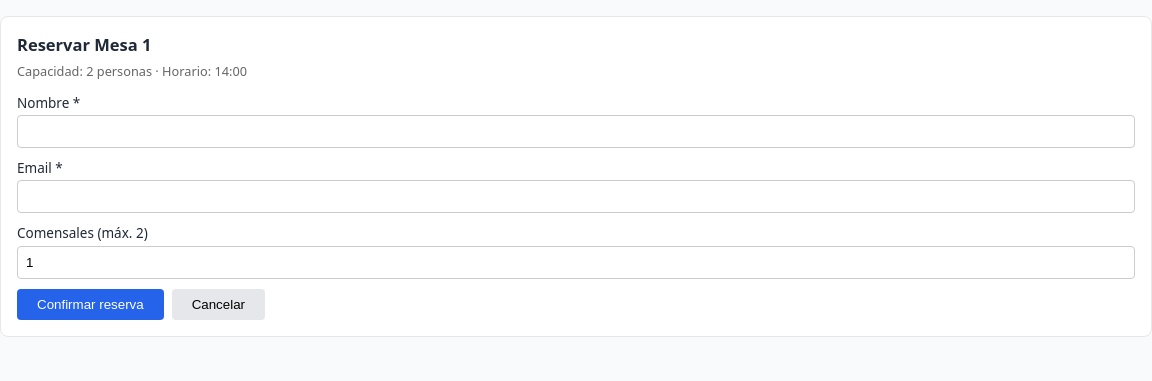
it: ReservationForm (Test C) › hace reserva correcta si datos son válidos
Type "Ana García" into the field with id "customerName" at (576, 132), box [17,115,1135,148]
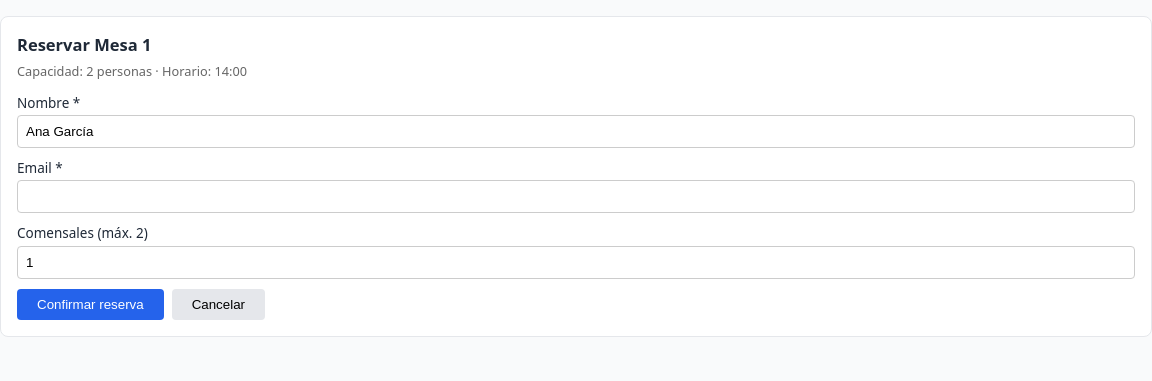
Type "ana@test.com" into the field with id "customerEmail" at (576, 197), box [17,180,1135,213]
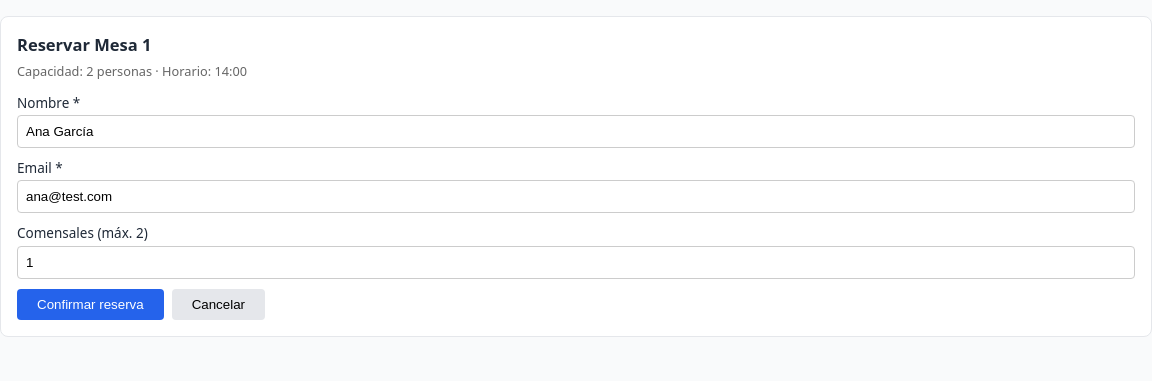
Replace the text in the number field labelled "Comensales (máx. 2)" with "2" at (576, 262), box [17,246,1135,279]
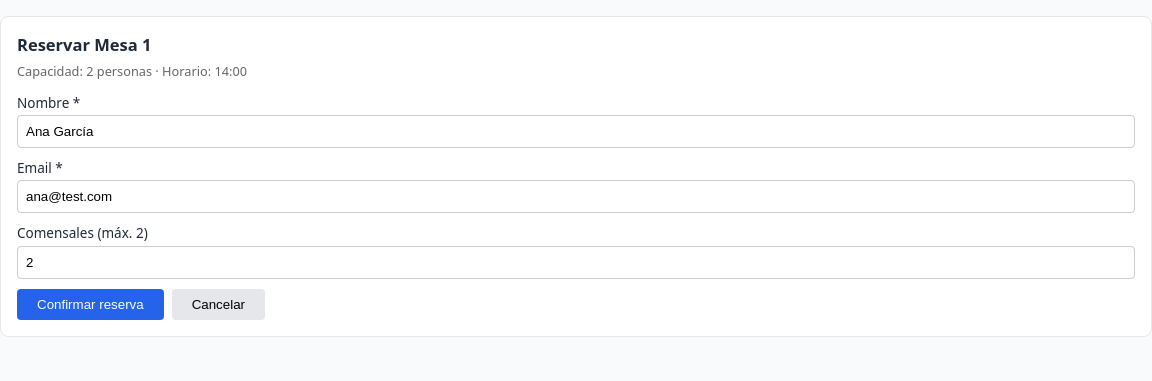
Submit the form, box [17,93,1135,320]
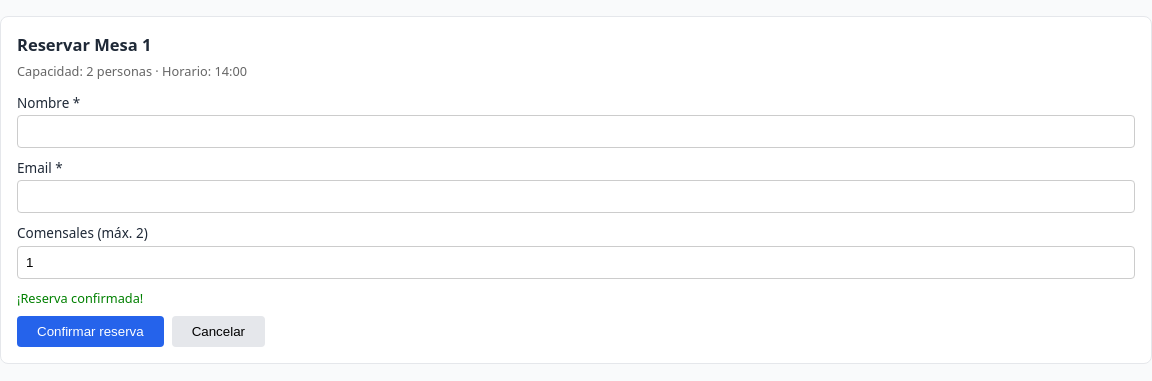
Expected: the message "¡Reserva confirmada!" is shown, [17,289,143,307]
